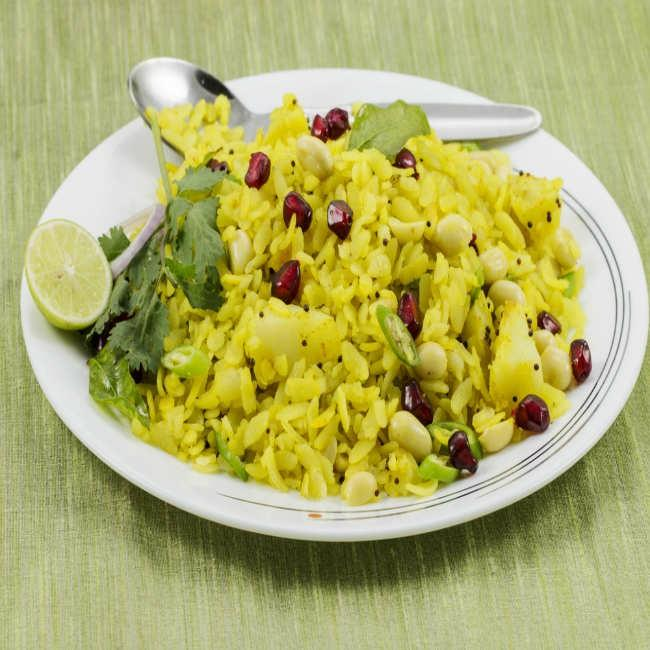Poha: (87, 92, 584, 508)
